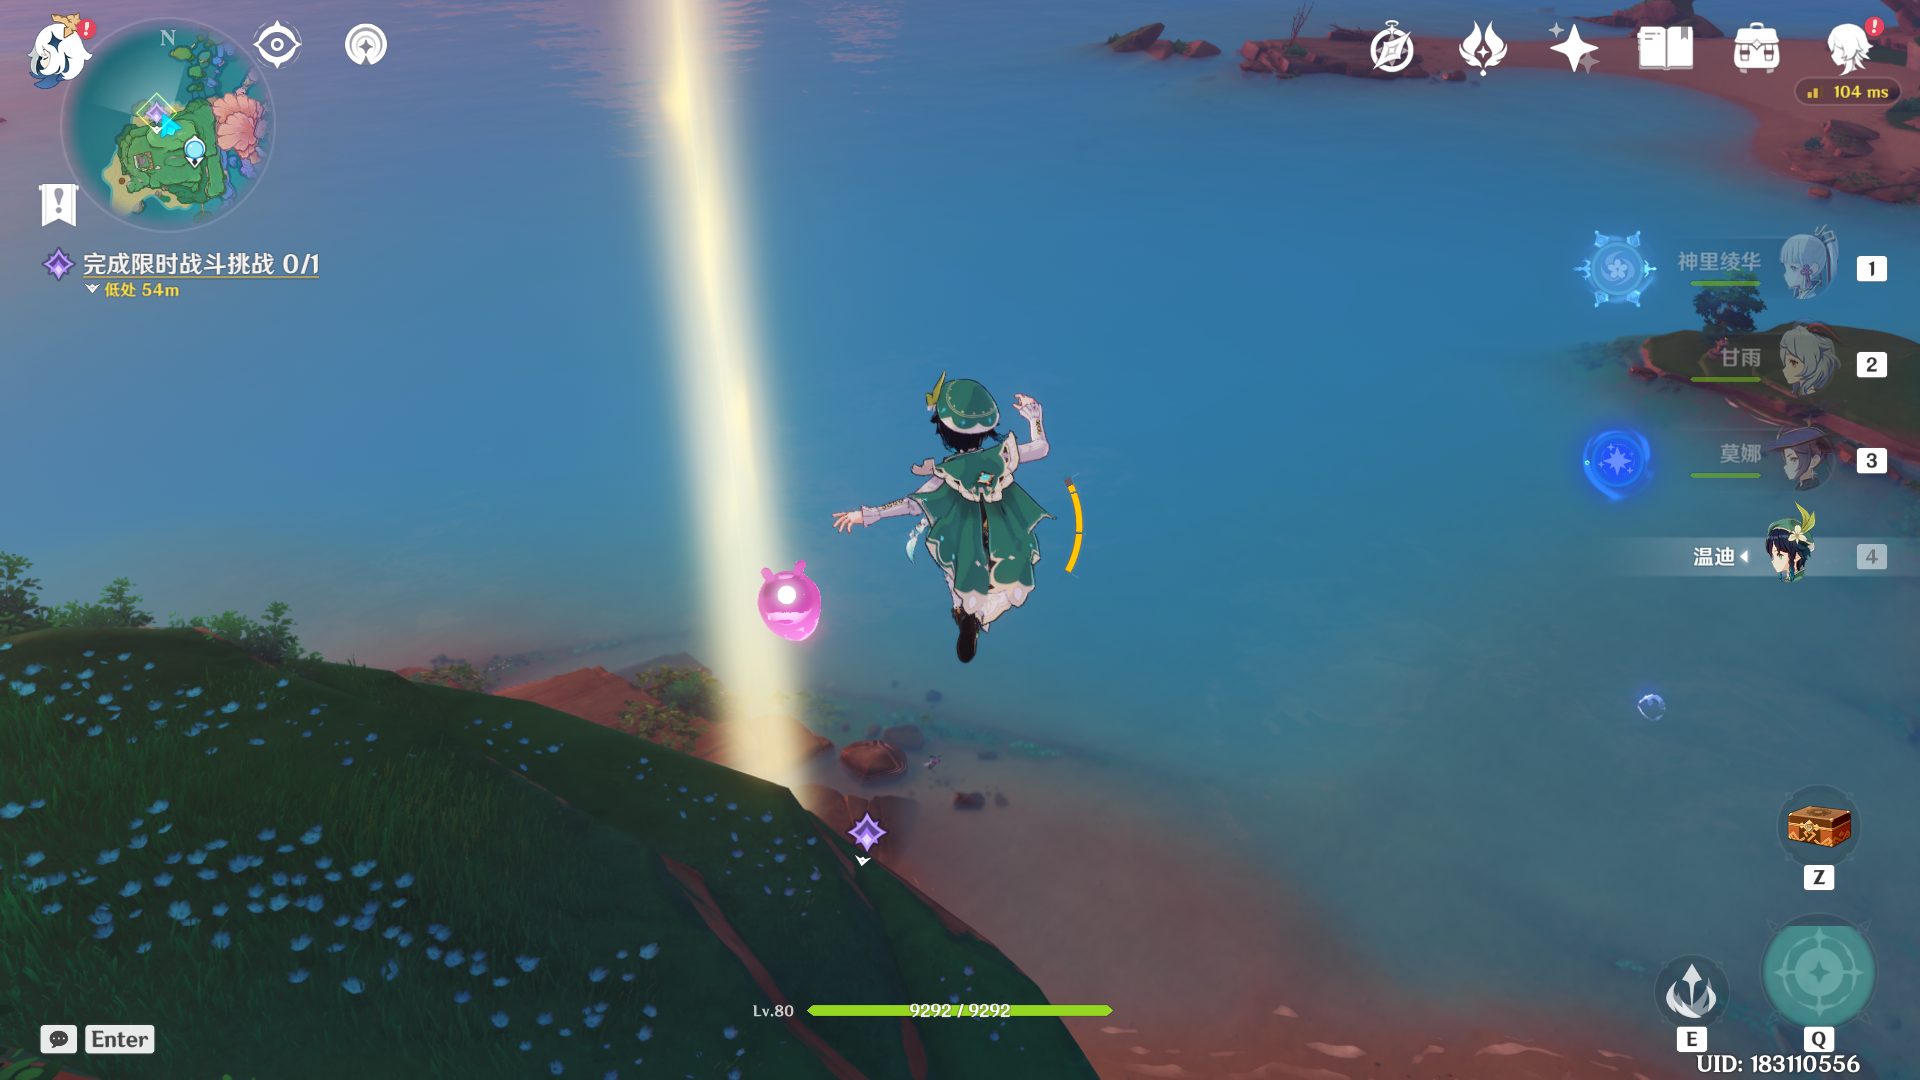character: (837, 345, 1077, 659)
